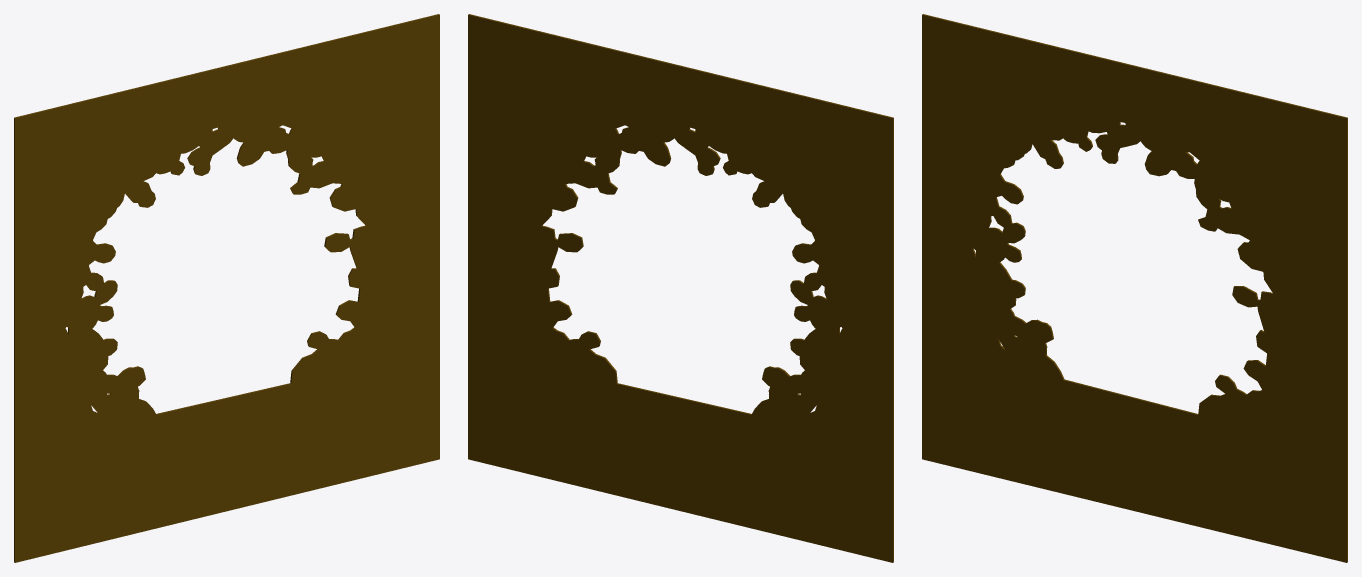
The model's file is Autumn_B_3.fbx.
The picture shows the model from 3 angles, left to right: view 1: azimuth 30°, elevation 25°; view 2: azimuth 150°, elevation 25°; view 3: azimuth 330°, elevation 25°; orthographic projection.
Parts seen in each view (by area): view 1: fall3b; view 2: fall3b; view 3: fall3b.
Boxes of the visible parts, box(x1,y1,x2,y2) form: fall3b: box(14, 14, 439, 562); fall3b: box(468, 14, 893, 562); fall3b: box(922, 14, 1347, 562).
Bounding box in the file's own units: 10.12 × 10.12 × 0.0458.
